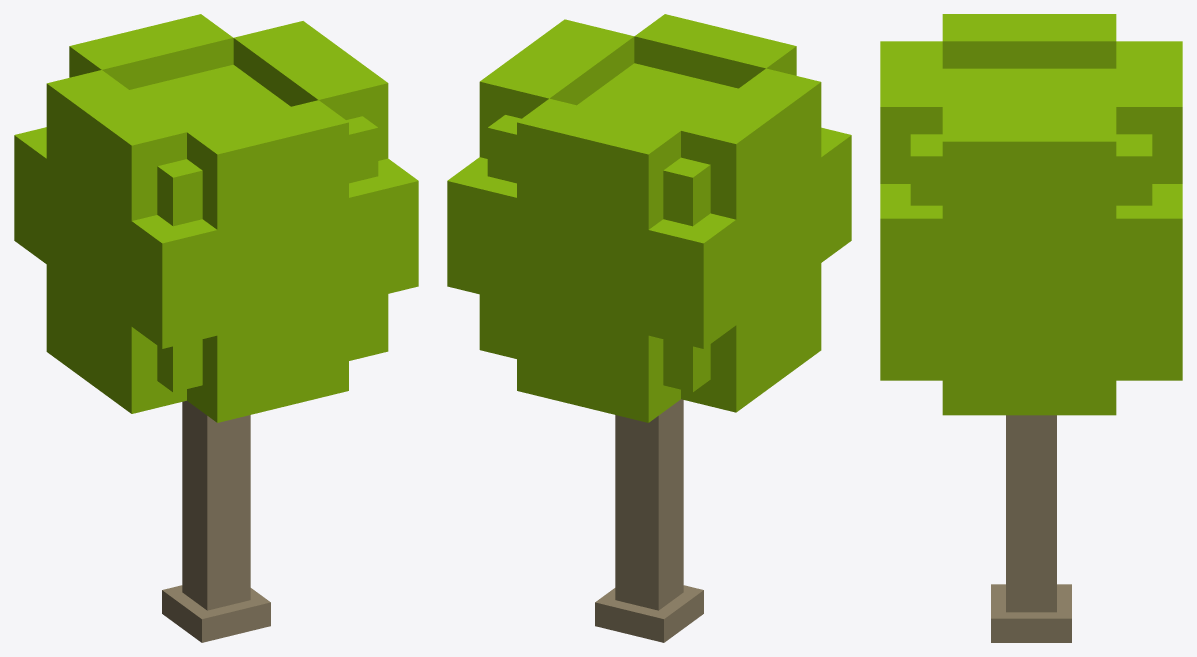
File: tree_boxy_4.fbx
3 renders of one model, left to right at view 1: azimuth 30°, elevation 25°; view 2: azimuth 150°, elevation 25°; view 3: azimuth 270°, elevation 25°, orthographic.
Visible parts, largest first — view 1: tree_boxy_4; view 2: tree_boxy_4; view 3: tree_boxy_4.
Boxes of the visible parts, x1,y1,x2,y2 form: tree_boxy_4: [14, 14, 418, 642]; tree_boxy_4: [447, 14, 851, 642]; tree_boxy_4: [880, 14, 1182, 642].
Bounding box in the file's own units: 92.48 × 185 × 92.48.
